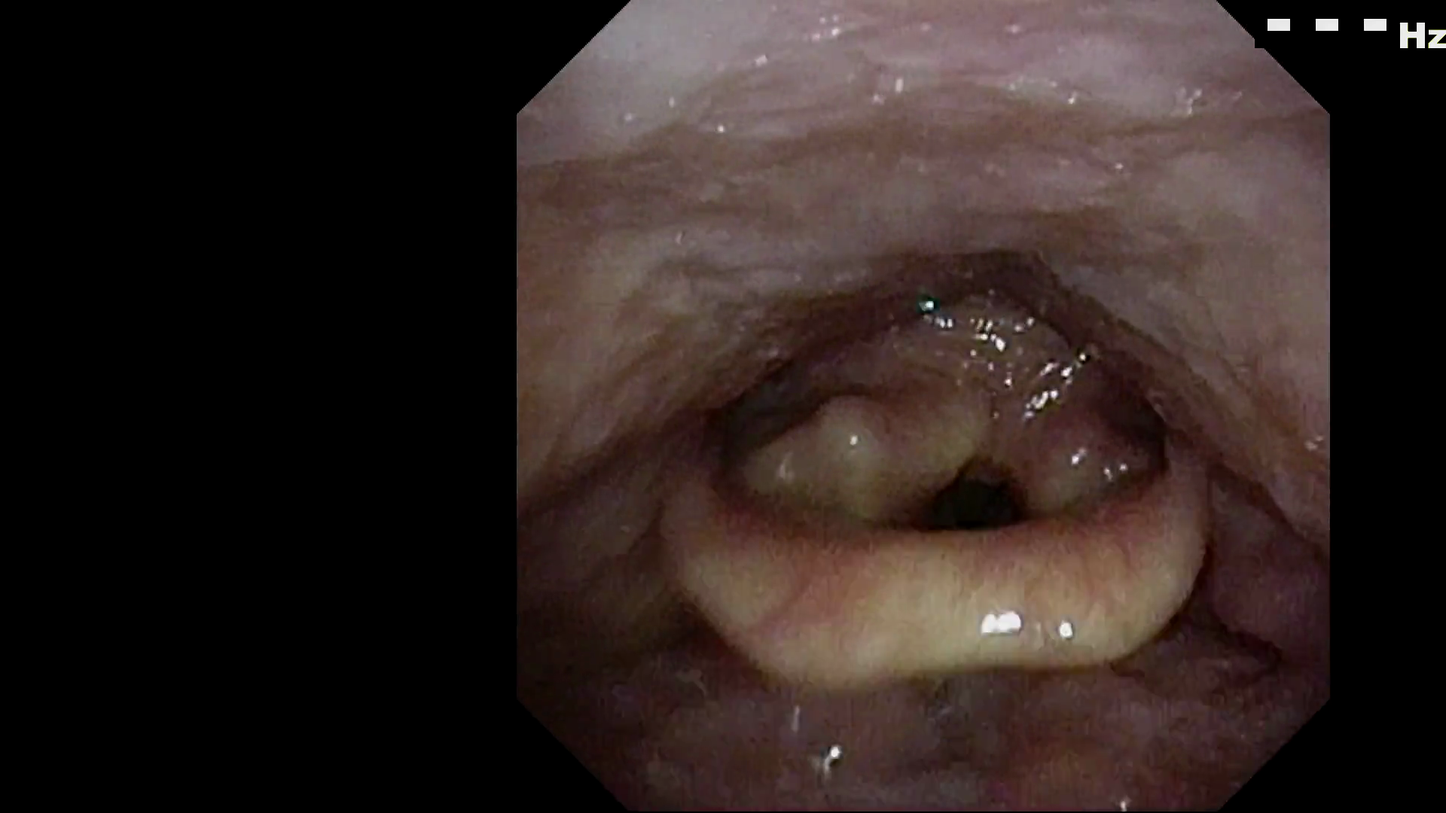epiglottis: (654, 473, 1216, 703)
trachea: (924, 488, 1009, 580)
